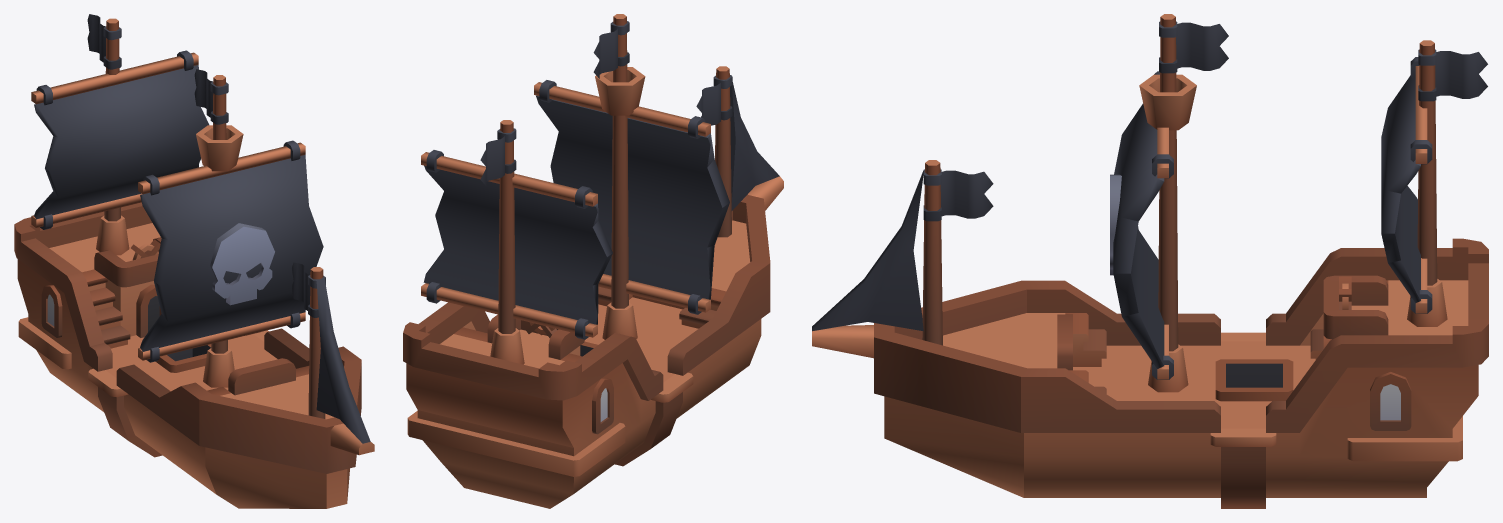
Rendered from ship-pirate-large.glb.
3 views of the same model, side by side, from view 1: azimuth 30°, elevation 25°; view 2: azimuth 150°, elevation 25°; view 3: azimuth 270°, elevation 25° (orthographic). The views are drawn at different scales.
Visible parts, largest first — view 1: ship-pirate-large; view 2: ship-pirate-large; view 3: ship-pirate-large.
Boxes of the visible parts, left/top/right/bottom form: ship-pirate-large: left=14, top=14, right=374, bottom=508; ship-pirate-large: left=403, top=14, right=783, bottom=508; ship-pirate-large: left=812, top=14, right=1488, bottom=508.
Size of the model in its own units: 4.8 by 9.96 by 13.1.
